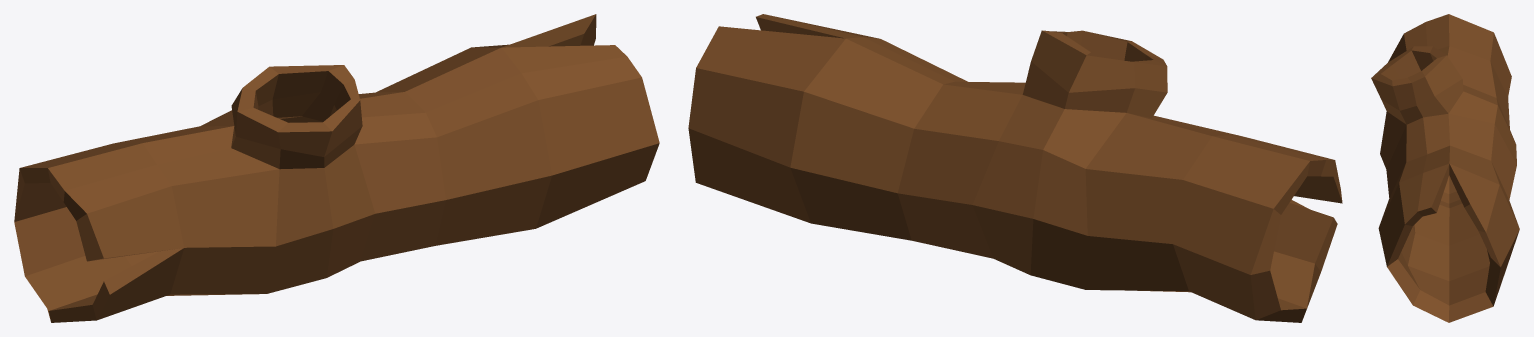
Rendered from newLog.fbx.
3 views of the same model, side by side, from view 1: azimuth 30°, elevation 25°; view 2: azimuth 150°, elevation 25°; view 3: azimuth 270°, elevation 25° (orthographic). The views are drawn at different scales.
Parts seen in each view (by area): view 1: Cylinder; view 2: Cylinder; view 3: Cylinder.
Boxes of the visible parts, box(x1,y1,x2,y2) form: Cylinder: box(14, 14, 659, 322); Cylinder: box(688, 14, 1342, 322); Cylinder: box(1371, 14, 1519, 322).
Size of the model in its own units: 137 by 50.31 by 43.56.
